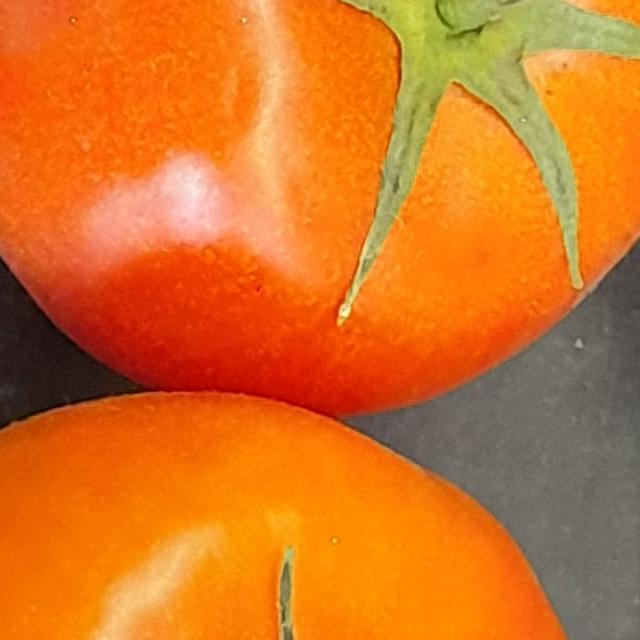tomato: (0, 0, 640, 419), (0, 376, 640, 640)
